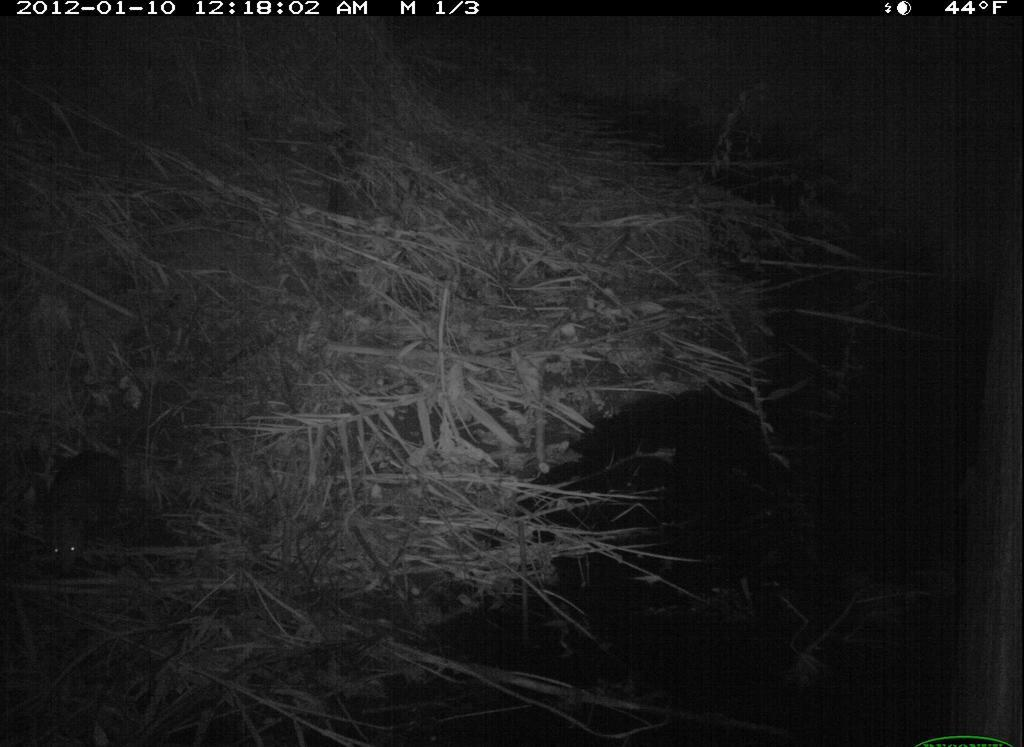opossum: (30, 420, 150, 582)
